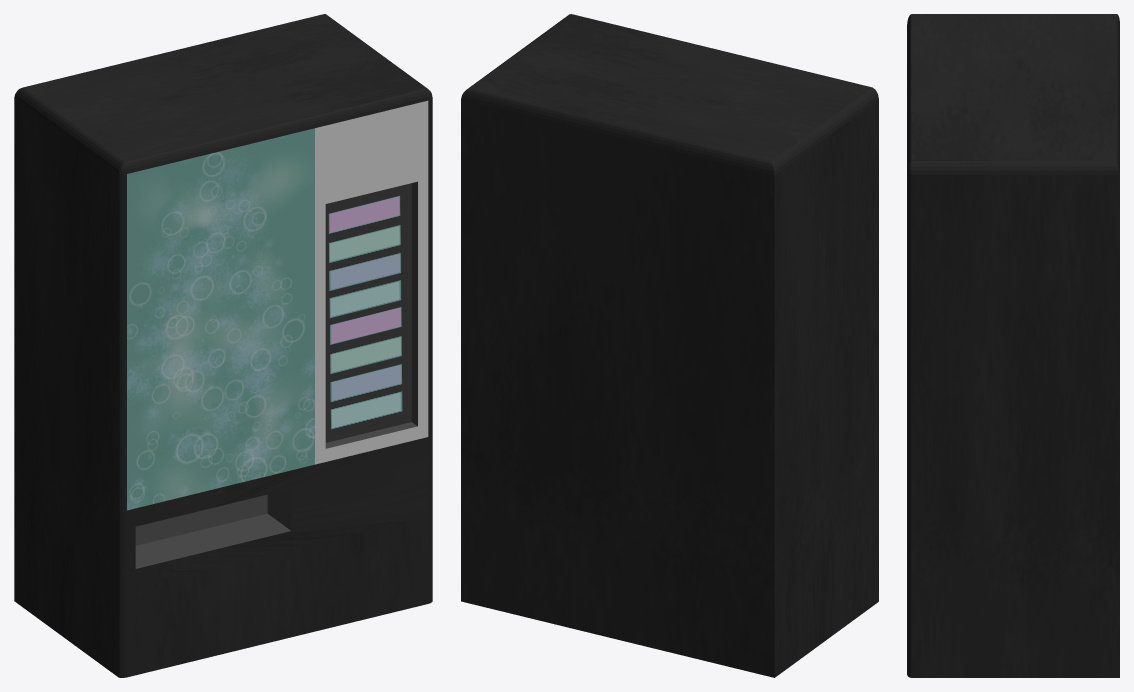
File: Vending Machine.fbx
3 renders of one model, left to right at view 1: azimuth 30°, elevation 25°; view 2: azimuth 150°, elevation 25°; view 3: azimuth 270°, elevation 25°, orthographic.
Parts seen in each view (by area): view 1: Vending machine (WIP); view 2: Vending machine (WIP); view 3: Vending machine (WIP).
Boxes of the visible parts, bbox=[...] form: Vending machine (WIP): bbox=[14, 14, 432, 677]; Vending machine (WIP): bbox=[461, 14, 878, 677]; Vending machine (WIP): bbox=[907, 14, 1119, 677].
Size of the model in its own units: 317 by 495 by 186.
